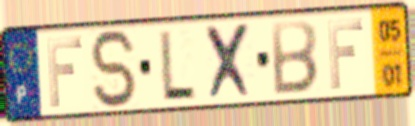B: (270, 18, 320, 97)
F: (44, 34, 85, 109), (325, 17, 366, 91)
L: (157, 27, 198, 102)
S: (87, 27, 141, 112)
X: (203, 20, 257, 103)
